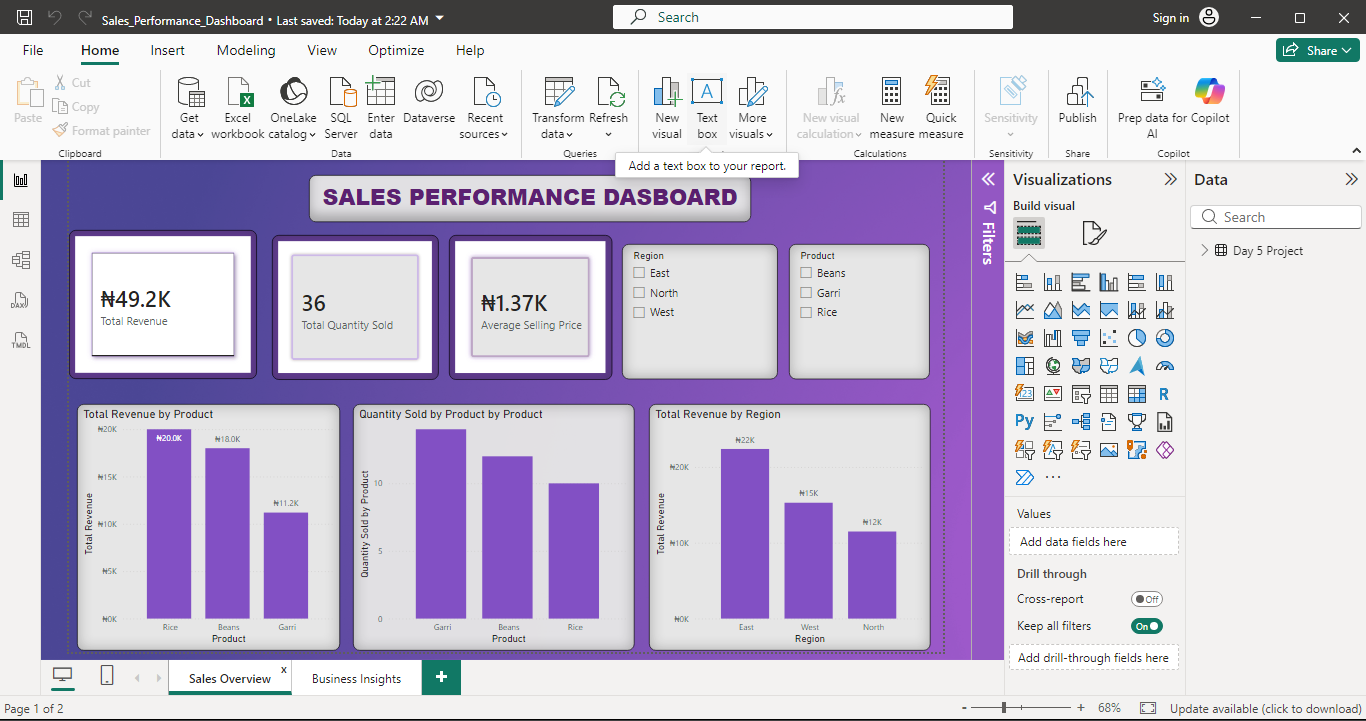

What the dashboard file says about the page in this screenshot:
{"tool":"powerbi","page":{"name":"Sales Overview","canvas":[1280,720],"ordinal":0},"visuals":[{"type":"cardVisual","fields":{"Data":["Day 5 Project.Total Revenue"]},"box":[0,102.5,275.5,218.4],"z":0},{"type":"clusteredColumnChart","fields":{"Category":["Day 5 Project.Product"],"Y":["Day 5 Project.Total Revenue"]},"box":[11.8,357.8,384.7,361.2],"z":1000},{"type":"clusteredColumnChart","fields":{"Category":["Day 5 Project.Region"],"Y":["Day 5 Project.Total Revenue"]},"box":[848.3,357.8,411.5,361.2],"z":2000},{"type":"slicer","fields":{"Values":["Day 5 Project.Region"]},"box":[809.7,122.6,228.5,198.2],"z":3000},{"type":"slicer","fields":{"Values":["Day 5 Project.Product"]},"box":[1053.7,122.9,206.3,197.6],"z":4000},{"type":"textbox","box":[351.1,21.8,646.7,68.9],"z":5000},{"type":"cardVisual","fields":{"Data":["Day 5 Project.Total Quantity Sold"]},"box":[297.3,109.2,243.6,211.7],"z":6000},{"type":"cardVisual","fields":{"Data":["Day 5 Project.Average Selling Price"]},"box":[556,109.2,238.5,211.7],"z":7000},{"type":"clusteredColumnChart","fields":{"Category":["Day 5 Project.Product"],"Y":["Sum(Day 5 Project.Quantity)"]},"box":[414.9,357.8,411.5,361.2],"z":8000}]}

Visuals, with their boxes on the page's 1280x720 design canvas (x1, y1, x2, y2). These are canvas units, not pixel positions in the 1366x721 screenshot, which may show the page scaled, cropped or inside an application window:
cardVisual - Day 5 Project.Total Revenue: box=[0, 102, 276, 321]
clusteredColumnChart - Day 5 Project.Product x Day 5 Project.Total Revenue: box=[12, 358, 396, 719]
clusteredColumnChart - Day 5 Project.Region x Day 5 Project.Total Revenue: box=[848, 358, 1260, 719]
slicer - Day 5 Project.Region: box=[810, 123, 1038, 321]
slicer - Day 5 Project.Product: box=[1054, 123, 1260, 320]
textbox: box=[351, 22, 998, 91]
cardVisual - Day 5 Project.Total Quantity Sold: box=[297, 109, 541, 321]
cardVisual - Day 5 Project.Average Selling Price: box=[556, 109, 794, 321]
clusteredColumnChart - Day 5 Project.Product x Sum(Day 5 Project.Quantity): box=[415, 358, 826, 719]
